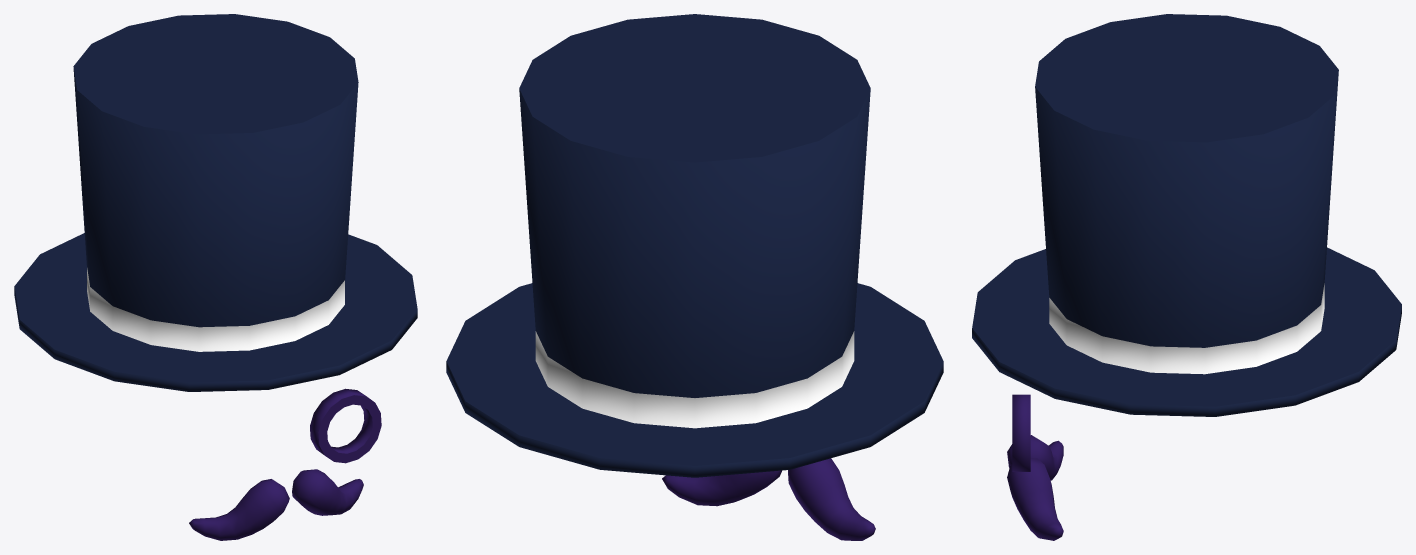
File: Hat_01.fbx
The picture shows the model from 3 angles, left to right: view 1: azimuth 30°, elevation 25°; view 2: azimuth 150°, elevation 25°; view 3: azimuth 270°, elevation 25°; orthographic projection. The views are drawn at different scales.
Visible parts, largest first — view 1: Cylinder.003; view 2: Cylinder.003; view 3: Cylinder.003.
Part boxes in pixels (x1=…): Cylinder.003: x1=14, y1=14, x2=417, y2=540; Cylinder.003: x1=446, y1=14, x2=943, y2=540; Cylinder.003: x1=972, y1=14, x2=1401, y2=540.
Size of the model in its own units: 0.878 by 0.9687 by 0.878.
